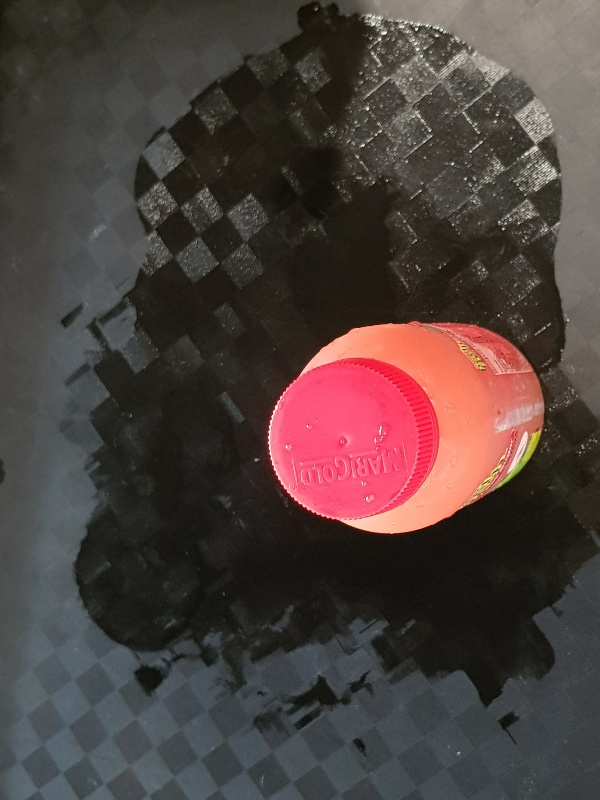Marigold Peel Fresh Pink Guava Juice Drink: (264, 316, 548, 536)
